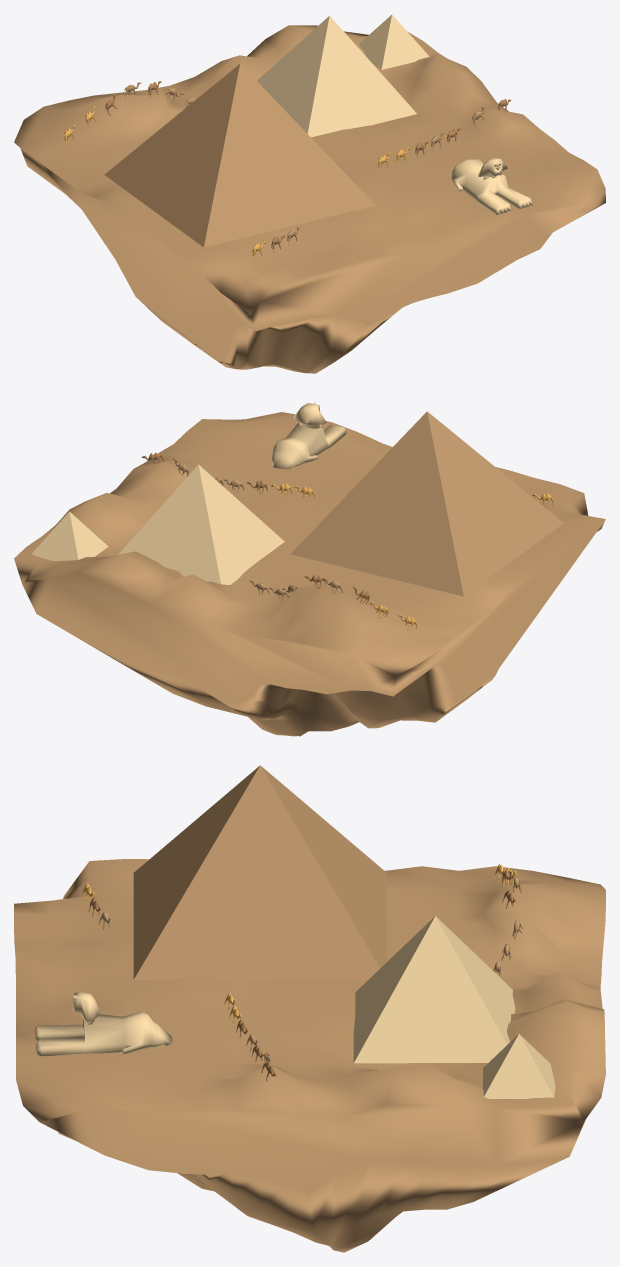
File: piramidi_egitto.glb
3 renders of one model, top to bottom at view 1: azimuth 30°, elevation 25°; view 2: azimuth 150°, elevation 25°; view 3: azimuth 270°, elevation 25°, orthographic. The views are drawn at different scales.
Visible parts, largest first — view 1: Cube, Cono, Cono_001, Cubo_001, Cono_002, Cilindro.001; view 2: Cube, Cono, Cono_001, Cubo_001, Cono_002, Cilindro.001; view 3: Cube, Cono, Cono_001, Cubo_001, Cono_002.
Part boxes in pixels (box(x1,y1,x2,y2)): Cube: box(14, 25, 605, 373); Cono: box(104, 64, 375, 247); Cono_001: box(257, 16, 416, 137); Cubo_001: box(450, 157, 532, 214); Cono_002: box(358, 14, 429, 69); Cilindro.001: box(377, 128, 460, 170); Cube: box(14, 412, 605, 736); Cono: box(290, 411, 563, 596); Cono_001: box(118, 464, 284, 584); Cubo_001: box(271, 402, 346, 469); Cono_002: box(31, 511, 108, 560); Cilindro.001: box(212, 476, 315, 500); Cube: box(14, 859, 605, 1252); Cono: box(133, 765, 386, 979); Cono_001: box(353, 916, 515, 1063); Cubo_001: box(34, 991, 172, 1056); Cono_002: box(482, 1034, 555, 1098).
Bounding box in the file's own units: 2.73 × 2.12 × 2.74.
